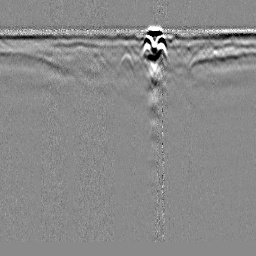cavity: (117, 51, 135, 73)
